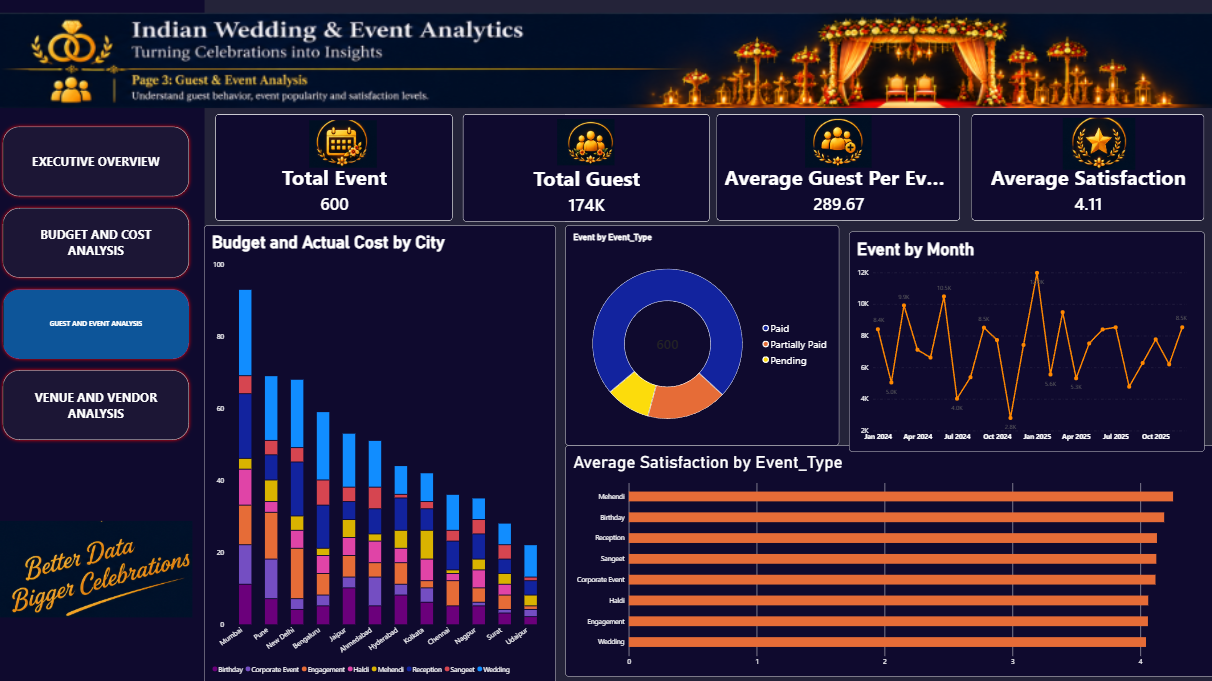

What the dashboard file says about the page in this screenshot:
{"tool":"powerbi","page":{"name":"GUEST AND EVENT ANALYSIS","canvas":[2560,1440],"ordinal":2},"visuals":[{"type":"textbox","box":[0,0,432.5,1440],"z":0},{"type":"pageNavigator","box":[0,259.5,408.1,678.4],"z":1000},{"type":"image","box":[0,1012.5,407.5,375],"z":2000},{"type":"cardVisual","fields":{"Data":["Events.Total Event"]},"box":[454.5,243.2,500,225],"z":3000},{"type":"cardVisual","fields":{"Data":["Events.Average Satisfaction"]},"box":[2047.7,243.2,490.9,225],"z":4000},{"type":"cardVisual","fields":{"Data":["Events.Total Guest"]},"box":[975,240.9,520.5,227.3],"z":5000},{"type":"cardVisual","fields":{"Data":["Events.Average Guest Per Event"]},"box":[1511.4,243.2,513.6,225],"z":6000},{"type":"barChart","fields":{"Category":["Dim_Event.Event_Type"],"Y":["Events.Average Satisfaction"]},"box":[1192.3,938.5,1366.7,487.2],"z":7000},{"type":"lineChart","title":"Event by Month","fields":{"Category":["Dim_Date.Month_Year.Variation.Date Hierarchy.Year","Dim_Date.Month_Year.Variation.Date Hierarchy.Quarter","Dim_Date.Month_Year.Variation.Date Hierarchy.Month","Dim_Date.Month_Year.Variation.Date Hierarchy.Day"],"Y":["Events.Total Guest"]},"box":[1788.6,488.6,748.7,464.1],"z":8000},{"type":"donutChart","title":"Event by Event_Type","fields":{"Y":["Events.Total Event"],"Category":["Events.Payment_Status"]},"box":[1193.2,475,576.9,464.1],"z":9000},{"type":"columnChart","title":"Budget and  Actual Cost by City","fields":{"Category":["Dim_City.City"],"Y":["Events.Total Event"],"Series":["Dim_Event.Event_Type"]},"box":[431.8,475,740.9,965.9],"z":10000},{"type":"image","box":[584.1,254.5,280,100],"z":11000},{"type":"image","box":[0,0,2559.1,259.1],"z":12000},{"type":"image","box":[1152.5,252.5,165,97.5],"z":12001},{"type":"image","box":[1685,245,165,110],"z":12002},{"type":"image","box":[2240,250,152.5,110],"z":12003}]}

Visuals, with their boxes in screenshot pixels (x1, y1, x2, y2), scaled from the page's 2560x1440 canvas onto the 1212x681 screenshot:
textbox: {"left": 0, "top": 0, "right": 205, "bottom": 680}
pageNavigator: {"left": 0, "top": 123, "right": 193, "bottom": 444}
image: {"left": 0, "top": 479, "right": 193, "bottom": 656}
cardVisual - Events.Total Event: {"left": 215, "top": 115, "right": 452, "bottom": 221}
cardVisual - Events.Average Satisfaction: {"left": 969, "top": 115, "right": 1202, "bottom": 221}
cardVisual - Events.Total Guest: {"left": 462, "top": 114, "right": 708, "bottom": 221}
cardVisual - Events.Average Guest Per Event: {"left": 716, "top": 115, "right": 959, "bottom": 221}
barChart - Dim_Event.Event_Type x Events.Average Satisfaction: {"left": 564, "top": 444, "right": 1211, "bottom": 674}
"Event by Month" lineChart: {"left": 847, "top": 231, "right": 1201, "bottom": 451}
"Event by Event_Type" donutChart: {"left": 565, "top": 225, "right": 838, "bottom": 444}
"Budget and  Actual Cost by City" columnChart: {"left": 204, "top": 225, "right": 555, "bottom": 680}
image: {"left": 277, "top": 120, "right": 409, "bottom": 168}
image: {"left": 0, "top": 0, "right": 1211, "bottom": 123}
image: {"left": 546, "top": 119, "right": 624, "bottom": 166}
image: {"left": 798, "top": 116, "right": 876, "bottom": 168}
image: {"left": 1060, "top": 118, "right": 1133, "bottom": 170}
